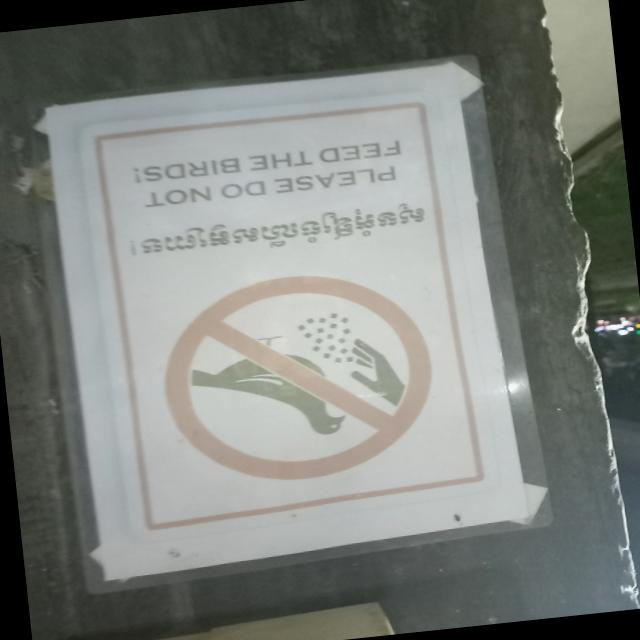Yolov11_80vkh: (121, 193, 429, 268)
